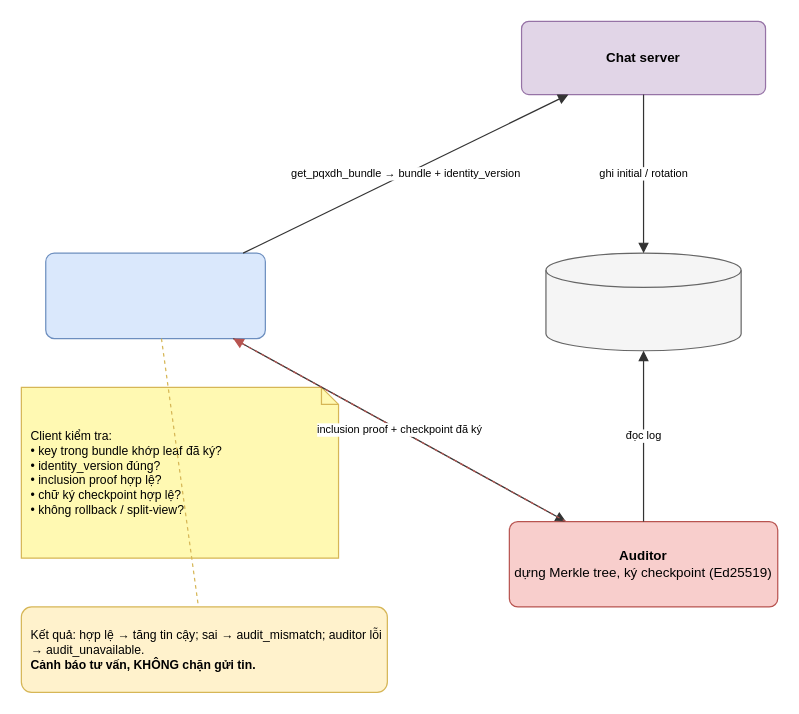
Some shapes in this 799 by 714 pixel diagram are drawn without their labels. Here are the shapes that lost their labels. From the top down, the centre of each, then its label:
[155,295]: Client A (người gửi)
[643,301]: identity_key_log (append-only)
